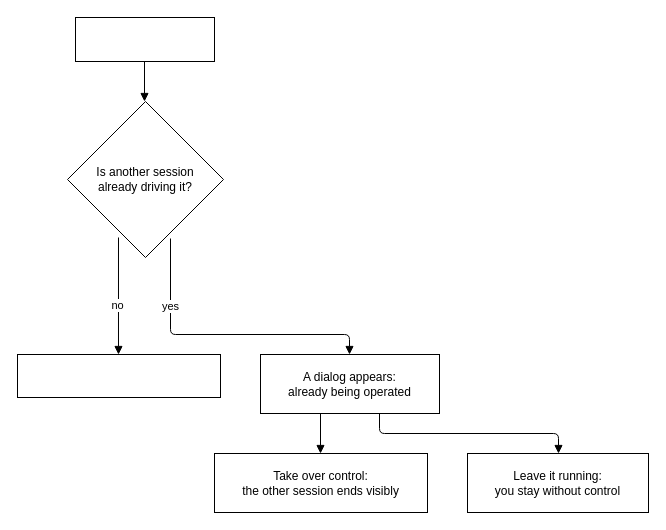
Some shapes in this 666 by 530 pixel diagram are drawn without their labels. The shapes that lost their labels are listed below. From the top down, each one's box as (x1, y1, x2, y2) in pixels, then its label:
(74, 16, 214, 62): You open a unit
(16, 354, 220, 398): You get control immediately
